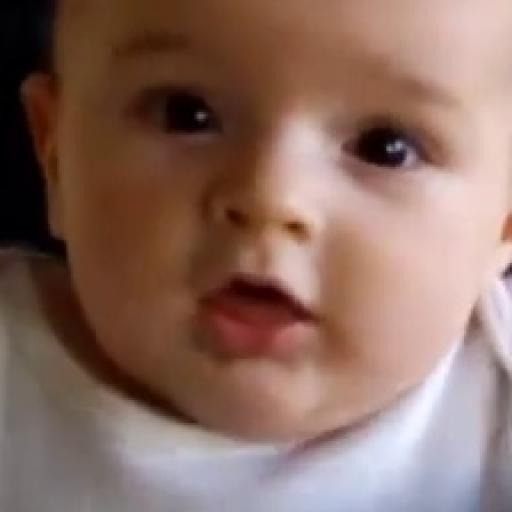Autism: (54, 2, 512, 483)
